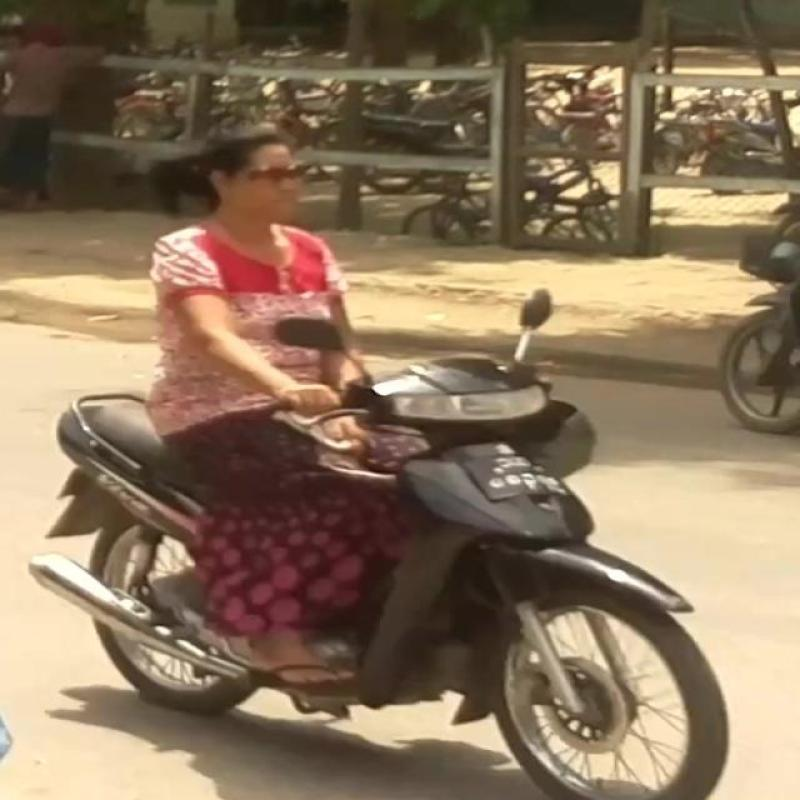nohelmet: (184, 108, 378, 242)
